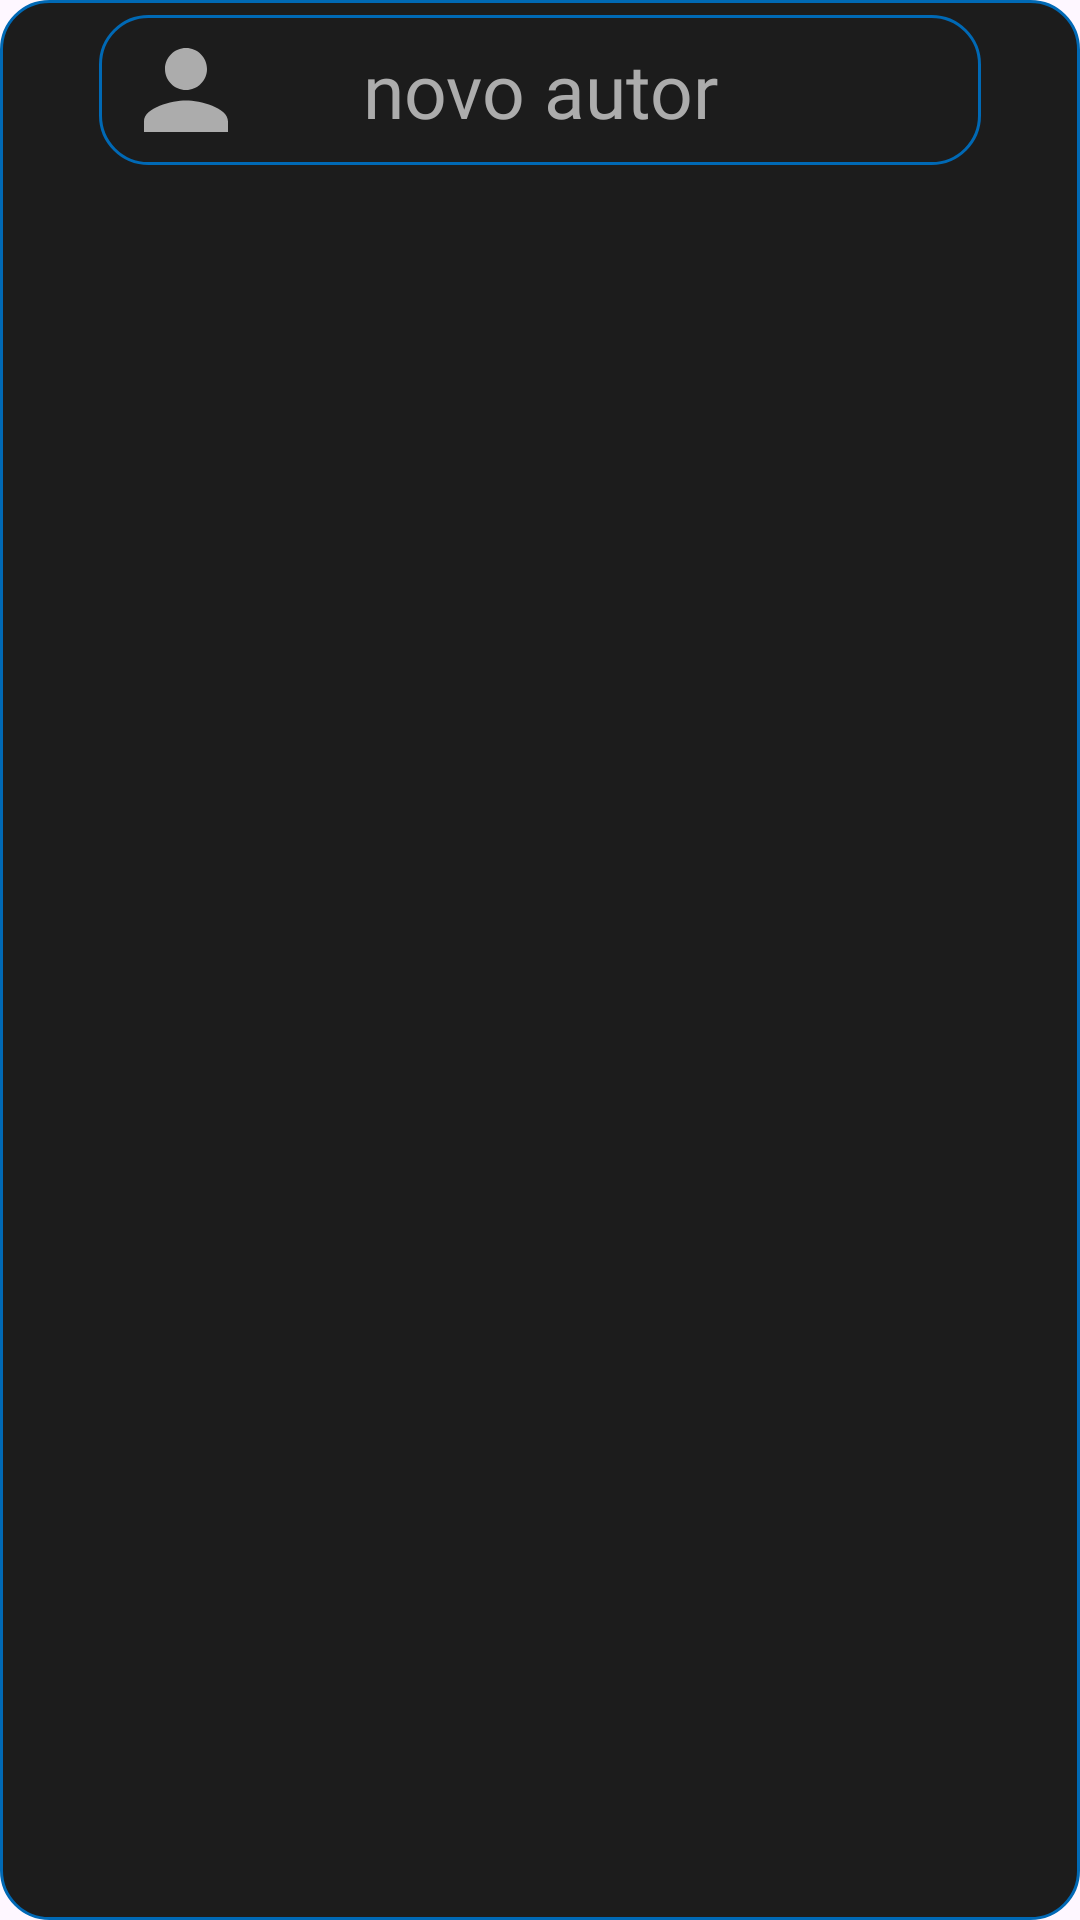

Icon bounding boxes for this 1080*1920 phone screenshot, format (x1, y1, x2, y2):
person: (144, 48, 228, 132)
